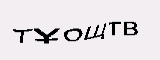В: (121, 21, 140, 37)
О: (64, 27, 82, 43)
Т: (11, 26, 32, 44), (106, 20, 121, 36)
Щ: (82, 22, 106, 42)
Ұ: (32, 26, 59, 45)
